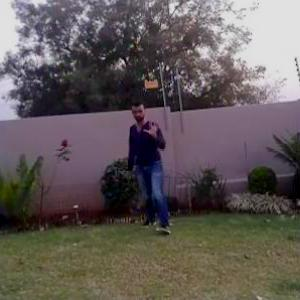follow_hand: (143, 115, 164, 141)
